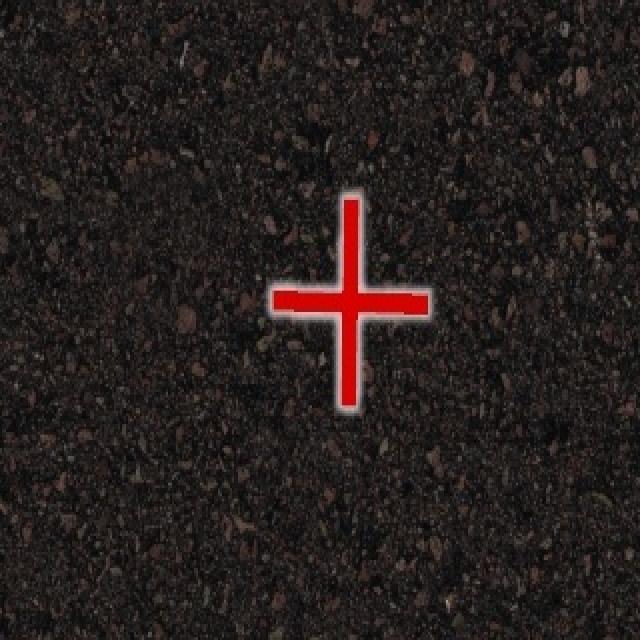x_marker: (271, 196, 427, 407)
